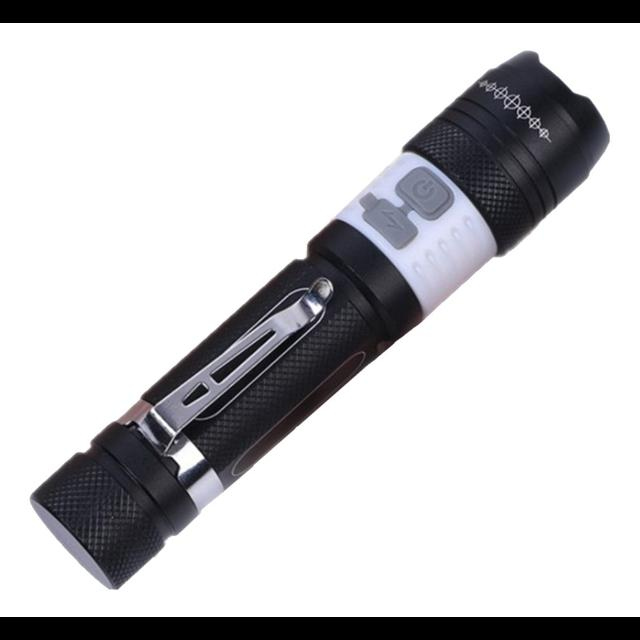Flashlight: (19, 43, 615, 599)
